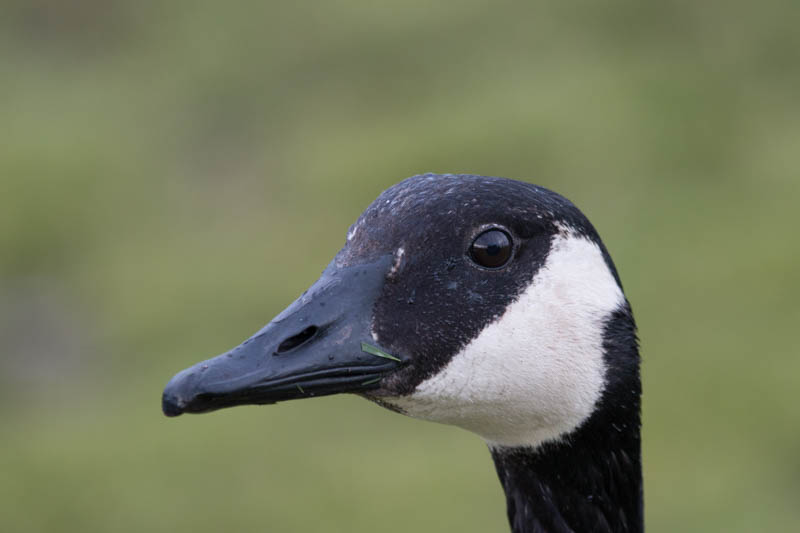goose-head: (161, 174, 641, 446)
